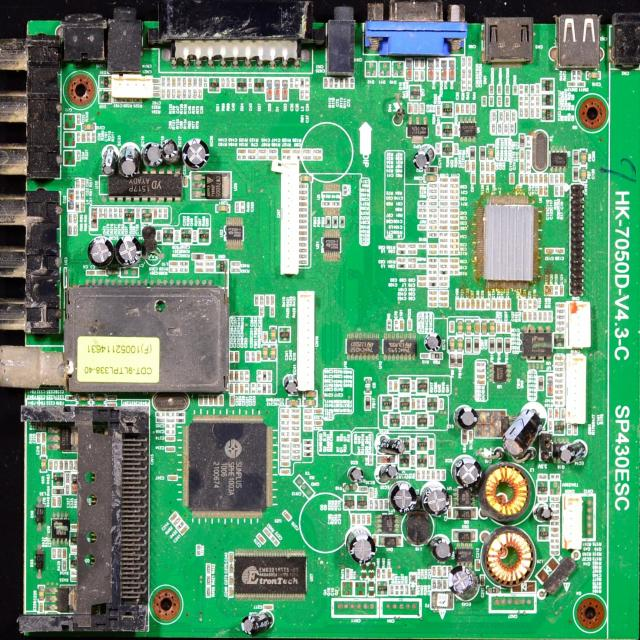Capacitor Jumper: (270, 328, 275, 340), (308, 399, 316, 405), (468, 431, 473, 440), (476, 323, 480, 334), (93, 396, 104, 400), (270, 536, 276, 543), (168, 474, 176, 479), (454, 144, 458, 154), (582, 152, 586, 162), (458, 322, 462, 332), (164, 448, 173, 452), (229, 577, 233, 586), (349, 78, 353, 87), (465, 161, 469, 170), (501, 299, 505, 308), (556, 248, 563, 253), (490, 147, 493, 158), (183, 176, 186, 187), (166, 436, 174, 440), (188, 78, 192, 86), (196, 268, 204, 272), (522, 312, 526, 320), (450, 323, 454, 331), (263, 349, 267, 357), (229, 372, 233, 380), (199, 396, 203, 404), (208, 397, 212, 405), (313, 410, 321, 414), (555, 410, 559, 418), (284, 514, 290, 519), (257, 536, 262, 542), (437, 566, 440, 576), (481, 575, 484, 585), (491, 322, 494, 332), (483, 322, 486, 332), (167, 425, 174, 429), (534, 175, 538, 182), (545, 249, 552, 253), (170, 268, 177, 272), (87, 270, 94, 274), (98, 270, 105, 274), (491, 300, 495, 307), (240, 386, 244, 393), (108, 396, 115, 400), (289, 400, 296, 404), (229, 553, 232, 562), (476, 561, 479, 570), (40, 588, 43, 597), (172, 77, 175, 86), (84, 125, 93, 128), (529, 300, 532, 309), (400, 321, 403, 330), (466, 323, 469, 332), (230, 396, 233, 405), (167, 430, 173, 434), (282, 469, 288, 473), (52, 497, 55, 505), (171, 512, 175, 518), (352, 516, 355, 524), (388, 569, 391, 577), (39, 604, 42, 612), (591, 73, 597, 77), (153, 78, 159, 82), (203, 79, 206, 87), (462, 82, 465, 90), (525, 97, 528, 105), (408, 104, 411, 112), (436, 144, 439, 152), (314, 156, 320, 160), (471, 176, 475, 182), (398, 245, 404, 249), (471, 300, 474, 308), (451, 340, 454, 348), (230, 352, 233, 360), (306, 392, 314, 395), (293, 438, 300, 441), (431, 471, 434, 478), (183, 527, 186, 534), (230, 566, 233, 573), (230, 589, 233, 596), (334, 77, 337, 84), (162, 90, 165, 97), (456, 105, 459, 112), (293, 150, 300, 153), (248, 150, 255, 153), (269, 156, 276, 159), (520, 175, 523, 182), (487, 177, 490, 184), (544, 188, 547, 195), (81, 202, 84, 209), (429, 251, 436, 254), (170, 262, 177, 265), (456, 300, 459, 307), (501, 324, 504, 331), (506, 325, 509, 332), (555, 357, 562, 360), (560, 286, 562, 296), (442, 290, 447, 294), (477, 375, 487, 377), (412, 397, 414, 407), (282, 438, 288, 441), (50, 459, 52, 468), (426, 470, 428, 479), (552, 528, 558, 531), (306, 91, 308, 100), (520, 150, 522, 159), (481, 162, 483, 171), (521, 162, 523, 171), (76, 179, 78, 188), (452, 208, 458, 211), (451, 233, 457, 236), (409, 250, 415, 253), (207, 255, 213, 258), (440, 277, 446, 280), (430, 277, 436, 280), (419, 277, 425, 280), (418, 283, 424, 286), (430, 291, 436, 294), (395, 320, 397, 329), (235, 353, 238, 359), (258, 352, 260, 361), (220, 395, 222, 404), (292, 414, 298, 417), (43, 445, 45, 453), (63, 549, 65, 557), (264, 606, 272, 608), (290, 79, 292, 87), (231, 79, 233, 87), (178, 90, 180, 98), (525, 174, 527, 182), (511, 175, 513, 183), (452, 265, 456, 269), (488, 300, 490, 308), (508, 300, 510, 308), (264, 334, 266, 342), (459, 341, 461, 349), (271, 348, 273, 356), (394, 382, 396, 390), (283, 462, 288, 465), (451, 178, 456, 181), (452, 183, 457, 186), (301, 203, 306, 206), (432, 227, 437, 230), (452, 243, 457, 246), (409, 264, 414, 267), (557, 303, 562, 306), (43, 434, 45, 441), (368, 515, 370, 522), (306, 80, 308, 87), (468, 82, 470, 89), (531, 98, 533, 105), (472, 162, 474, 169), (486, 163, 488, 170), (491, 164, 493, 171), (583, 171, 585, 178), (560, 175, 562, 182), (300, 232, 307, 234), (429, 245, 436, 247), (463, 300, 465, 307), (478, 301, 480, 308), (236, 372, 238, 379), (235, 385, 237, 392), (231, 385, 233, 392), (448, 566, 450, 572), (296, 79, 298, 85), (238, 150, 244, 152), (283, 150, 289, 152), (428, 176, 432, 179), (540, 176, 542, 182), (453, 189, 457, 192), (154, 211, 156, 217), (452, 214, 456, 217), (453, 226, 457, 229), (467, 301, 469, 307), (498, 302, 500, 308), (498, 325, 500, 331), (283, 415, 289, 417), (316, 421, 320, 424), (440, 178, 445, 180), (452, 196, 457, 198), (399, 258, 404, 260), (441, 304, 446, 306), (478, 381, 483, 383), (110, 404, 115, 406), (454, 220, 457, 223), (215, 396, 216, 405), (545, 175, 546, 183), (442, 226, 446, 228), (452, 239, 456, 241), (451, 259, 455, 261), (442, 260, 446, 262), (442, 297, 446, 299), (432, 304, 436, 306), (83, 134, 84, 141), (482, 301, 483, 308), (492, 176, 493, 182), (540, 188, 541, 194), (431, 297, 434, 299), (442, 283, 446, 284)
IC: (189, 426, 266, 509), (486, 207, 532, 280), (238, 554, 306, 594), (109, 175, 181, 199), (193, 172, 227, 196), (523, 334, 546, 354), (384, 341, 416, 353), (350, 340, 376, 352), (380, 515, 396, 531), (54, 520, 66, 538), (406, 125, 426, 135), (461, 124, 476, 136), (494, 366, 505, 382), (458, 547, 470, 561), (226, 226, 240, 238), (324, 240, 338, 250), (459, 490, 470, 502), (554, 152, 563, 165), (218, 206, 228, 212)
Resistor Jumper: (550, 473, 558, 478), (76, 150, 80, 160), (263, 528, 269, 534), (414, 59, 418, 68), (471, 104, 475, 113), (548, 409, 552, 418), (560, 409, 564, 418), (413, 72, 418, 79), (411, 439, 414, 450), (368, 457, 372, 465), (54, 489, 62, 493), (492, 114, 496, 122), (175, 231, 179, 239), (230, 268, 238, 272), (548, 314, 552, 322), (554, 384, 562, 388), (371, 487, 374, 497), (227, 78, 230, 88), (92, 132, 95, 142), (158, 419, 168, 422), (374, 501, 378, 508), (361, 516, 365, 523), (196, 262, 203, 266), (270, 296, 274, 303), (244, 354, 248, 361), (208, 564, 211, 573), (432, 567, 435, 576), (391, 585, 394, 594), (420, 59, 423, 68), (193, 78, 196, 87), (81, 179, 84, 188), (118, 208, 121, 217), (73, 214, 76, 223), (68, 214, 71, 223), (408, 320, 411, 329), (250, 352, 253, 361), (257, 384, 260, 393), (245, 384, 248, 393), (411, 455, 414, 463), (53, 460, 56, 468), (66, 487, 70, 493), (57, 498, 60, 506), (384, 501, 387, 509), (346, 568, 349, 576), (462, 70, 465, 78), (577, 71, 580, 79), (162, 78, 165, 86), (182, 78, 185, 86), (324, 78, 327, 86), (344, 80, 347, 88), (193, 90, 196, 98), (153, 93, 159, 97), (414, 104, 417, 112), (512, 112, 515, 120), (302, 156, 310, 159), (293, 156, 299, 160), (259, 157, 267, 160), (299, 185, 307, 188), (560, 188, 564, 194), (104, 210, 107, 218), (438, 220, 446, 223), (418, 226, 424, 230), (230, 262, 238, 265), (419, 264, 425, 268), (179, 268, 187, 271), (206, 269, 214, 272), (255, 296, 258, 304), (267, 372, 270, 380), (251, 384, 254, 392), (176, 413, 182, 417), (74, 462, 77, 469), (359, 487, 366, 490), (551, 509, 558, 512), (551, 539, 558, 542), (551, 545, 558, 548), (436, 580, 439, 587), (442, 581, 445, 588), (462, 59, 465, 66), (531, 108, 534, 115), (498, 125, 501, 132), (238, 157, 245, 160), (550, 176, 553, 183), (164, 209, 167, 216), (205, 262, 212, 265), (265, 296, 268, 303), (402, 417, 405, 424), (294, 443, 299, 447), (62, 561, 64, 571), (71, 570, 76, 574), (439, 238, 444, 242), (453, 251, 458, 255), (282, 449, 288, 452), (282, 455, 288, 458), (539, 475, 545, 478), (198, 545, 200, 554), (208, 589, 211, 595), (468, 70, 471, 76), (167, 78, 169, 87), (152, 85, 158, 88), (188, 89, 190, 98), (536, 98, 539, 104), (421, 104, 423, 113), (461, 104, 463, 113), (524, 109, 526, 118), (506, 112, 508, 121), (499, 112, 501, 121), (511, 125, 513, 134), (270, 150, 276, 153), (428, 233, 434, 236), (408, 244, 414, 247), (440, 250, 446, 253), (181, 262, 187, 265), (421, 354, 427, 357), (477, 361, 483, 364), (556, 362, 562, 365), (555, 378, 561, 381), (412, 383, 415, 389), (416, 401, 419, 407), (292, 410, 298, 413), (385, 416, 387, 425), (293, 422, 299, 425), (574, 426, 576, 434), (421, 471, 423, 479), (66, 474, 68, 482), (550, 522, 558, 524), (382, 569, 384, 577), (207, 577, 209, 585), (434, 580, 436, 588), (405, 586, 407, 594), (199, 78, 201, 86), (222, 79, 224, 87), (328, 79, 330, 87), (178, 79, 180, 87), (198, 90, 200, 98), (300, 90, 302, 98), (536, 108, 538, 116), (520, 109, 522, 117), (528, 138, 530, 146), (302, 151, 310, 153), (555, 186, 557, 194), (109, 210, 111, 218), (113, 210, 115, 218), (137, 210, 139, 218), (418, 215, 426, 217), (68, 226, 70, 234), (158, 232, 160, 240), (419, 244, 423, 248), (555, 285, 557, 293), (546, 286, 548, 294), (260, 296, 262, 304), (261, 308, 263, 316), (272, 308, 274, 316), (240, 372, 242, 380), (268, 385, 270, 393), (410, 416, 412, 424), (283, 422, 291, 424), (293, 456, 298, 459), (553, 551, 558, 554), (429, 190, 434, 193), (431, 202, 436, 205), (431, 207, 434, 212), (430, 220, 435, 223), (300, 243, 305, 246), (300, 255, 305, 258), (558, 309, 563, 312), (550, 422, 552, 429), (429, 440, 431, 447), (64, 462, 66, 469), (438, 471, 440, 478), (442, 472, 444, 479), (417, 472, 419, 479), (538, 498, 545, 500), (380, 501, 382, 508), (357, 515, 359, 522), (551, 534, 558, 536), (53, 550, 55, 557), (396, 587, 398, 594), (469, 59, 471, 66), (340, 79, 342, 86), (183, 90, 185, 97), (173, 90, 175, 97), (520, 98, 522, 105), (467, 105, 469, 112), (77, 115, 79, 122), (492, 125, 494, 132), (87, 133, 89, 140), (527, 152, 529, 159), (528, 163, 530, 170), (344, 186, 346, 193), (160, 210, 162, 217), (440, 215, 447, 217), (73, 227, 75, 234), (194, 232, 196, 239), (540, 312, 542, 319), (544, 312, 546, 319), (530, 313, 532, 320), (259, 372, 261, 379), (246, 372, 248, 379), (440, 400, 442, 407), (167, 412, 174, 414), (178, 419, 185, 421), (292, 427, 298, 429), (292, 432, 298, 434), (282, 432, 288, 434), (282, 444, 288, 446), (293, 450, 299, 452), (70, 462, 72, 468), (552, 504, 558, 506), (552, 516, 558, 518), (377, 570, 379, 576), (400, 586, 402, 592), (421, 72, 423, 78), (573, 72, 575, 78), (536, 85, 538, 91), (168, 90, 170, 96), (505, 126, 507, 132), (78, 134, 80, 140), (314, 151, 320, 153), (248, 157, 254, 159), (441, 185, 447, 187), (431, 185, 435, 188), (440, 190, 446, 192), (82, 192, 84, 198), (300, 209, 306, 211), (300, 215, 306, 217), (431, 216, 435, 219), (300, 221, 306, 223), (300, 226, 306, 228), (431, 264, 435, 267), (549, 286, 551, 292), (534, 301, 536, 307), (534, 314, 536, 320), (558, 316, 564, 318), (558, 328, 564, 330), (477, 369, 483, 371), (556, 391, 562, 393), (556, 401, 562, 403), (421, 402, 423, 408), (282, 408, 286, 411), (156, 413, 162, 415), (407, 417, 409, 423), (304, 422, 310, 424), (306, 428, 311, 430), (431, 454, 432, 464), (553, 498, 558, 500), (176, 519, 178, 524), (259, 150, 264, 152), (283, 156, 288, 158), (556, 176, 558, 181), (301, 192, 306, 194), (452, 202, 457, 204), (419, 203, 424, 205), (441, 209, 446, 211), (300, 238, 305, 240), (301, 262, 306, 264), (558, 322, 563, 324), (556, 369, 561, 371), (556, 374, 561, 376), (557, 396, 562, 398), (169, 418, 174, 420), (421, 208, 424, 211), (100, 208, 101, 217), (388, 320, 389, 329), (444, 567, 445, 575), (70, 578, 74, 580), (441, 197, 445, 199), (431, 197, 435, 199), (301, 198, 305, 200), (442, 245, 446, 247), (301, 250, 305, 252), (410, 259, 414, 261), (205, 396, 206, 404), (306, 416, 310, 418), (371, 501, 372, 508), (304, 411, 311, 412), (284, 426, 287, 428), (60, 461, 61, 467), (58, 550, 59, 556), (390, 383, 391, 389), (441, 204, 446, 205), (180, 522, 180, 528)
Transistor: (417, 434, 427, 448), (279, 326, 289, 340), (254, 78, 264, 91), (540, 79, 550, 91), (442, 125, 452, 137), (162, 229, 172, 241), (554, 334, 564, 346), (427, 398, 436, 411), (410, 86, 418, 100), (53, 473, 62, 485), (209, 78, 218, 90), (442, 102, 451, 114), (442, 143, 451, 155), (199, 231, 208, 242), (418, 414, 426, 425), (402, 437, 409, 449), (238, 76, 244, 90), (183, 229, 190, 241), (555, 423, 563, 433), (540, 526, 546, 539), (358, 497, 365, 508), (141, 210, 148, 221), (539, 482, 545, 494), (72, 531, 78, 543), (124, 209, 130, 221), (218, 261, 226, 270), (419, 456, 426, 466), (402, 380, 409, 390), (392, 415, 399, 425), (383, 398, 391, 406), (544, 96, 551, 105), (346, 497, 352, 507), (70, 556, 76, 566), (419, 381, 425, 391), (546, 110, 552, 119), (401, 456, 407, 464), (402, 399, 406, 409)
